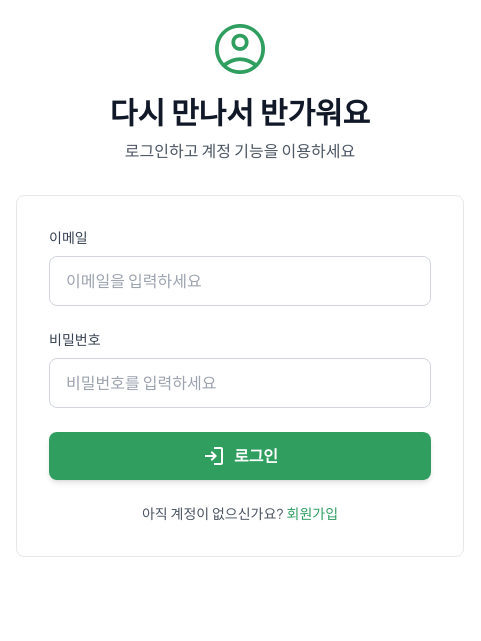
Test case: Login › LP-03: 로그인 실패 — 401 › "이메일 또는 비밀번호가 올바르지 않습니다" 에러 메시지가 노출된다
This screenshot has width=481, height=641.
Type "wrong@example.com" into the field labelled "이메일" at (240, 281), box [49,256,431,306]
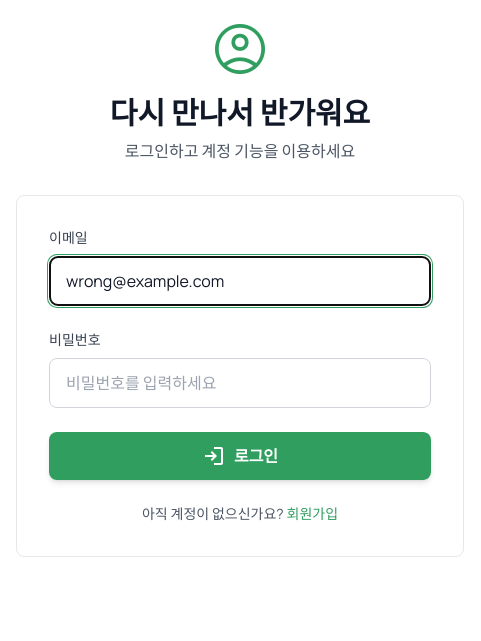
Type "wrongpass" into the password field labelled "비밀번호" at (240, 383), box [49,358,431,408]
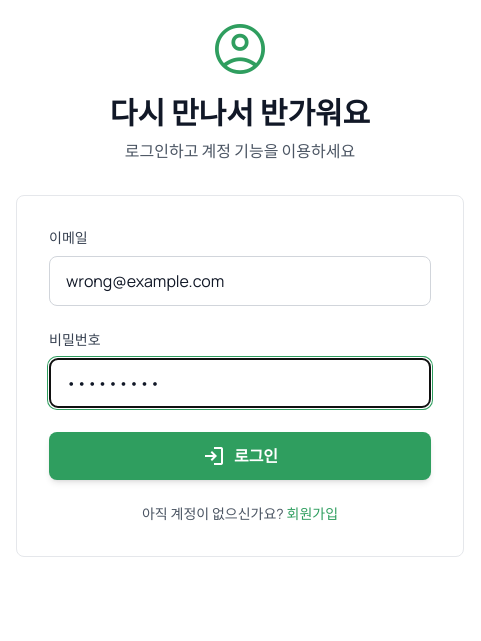
Click the button "로그인" at (240, 456), box [49,432,431,480]
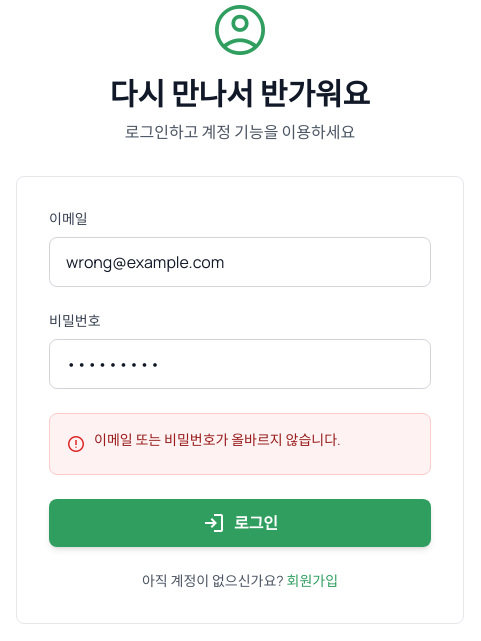
Expected: the text "이메일 또는 비밀번호가 올바르지 않습니다." is shown, [94,430,341,450]
